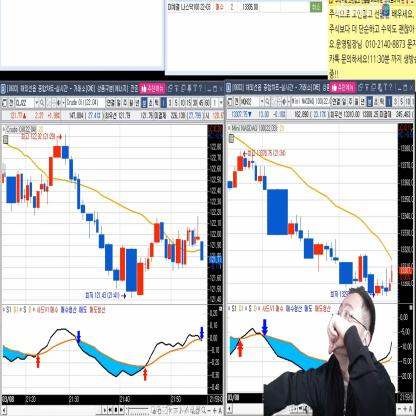streamer: (263, 288, 395, 416)
